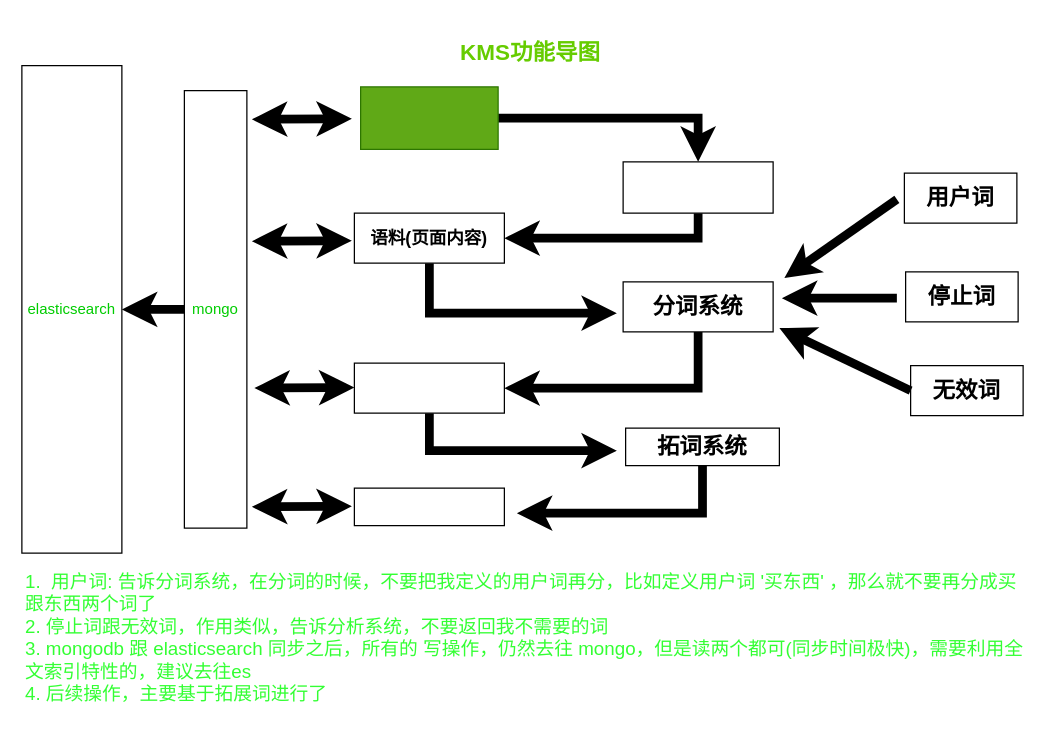
This 1050x740 diagram has some shape labels left out. Here are the shapes that lost their labels. From the top down, the centre of each, then its label:
At [428,117]: "urls（起点）".
At [697,187]: "爬虫系统".
At [428,387]: "基础词".
At [428,506]: "拓展词".
